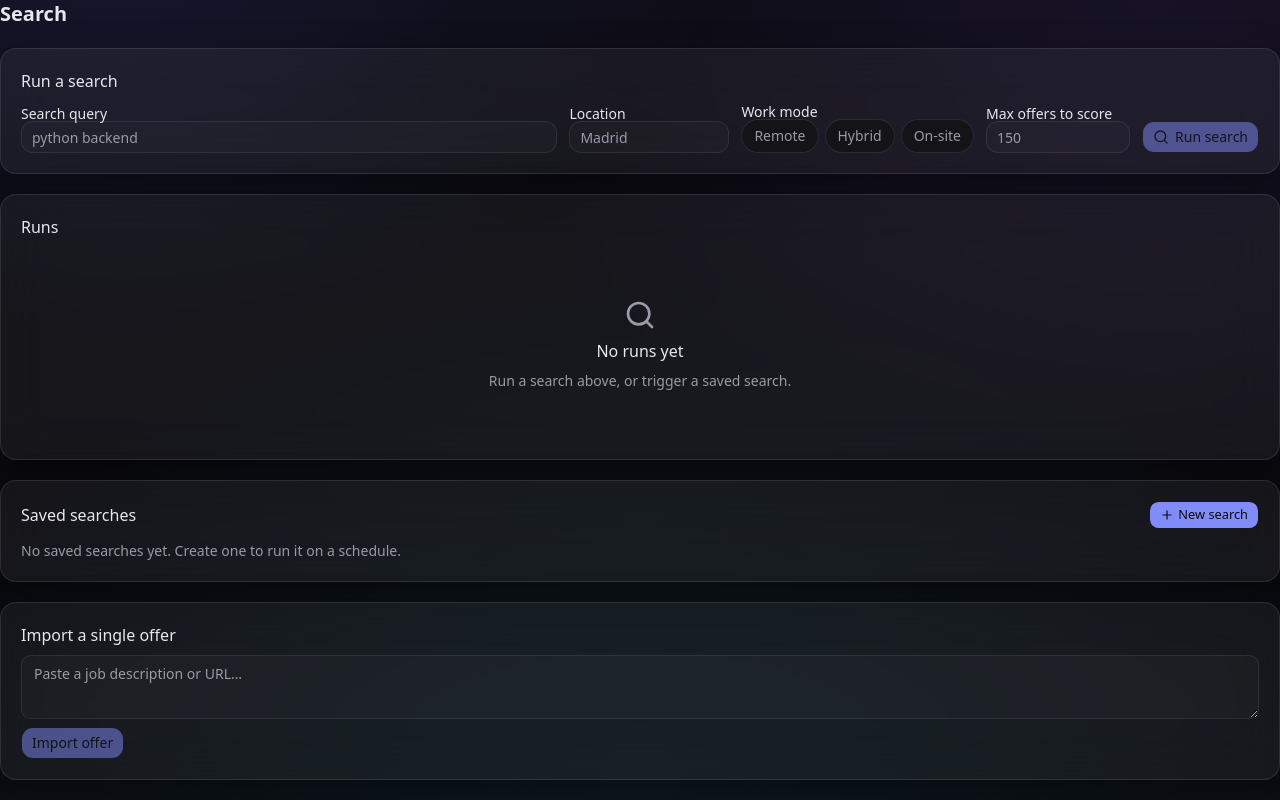
Scenario: the estimate is presented as a ceiling before launching
The width and height of the screenshot is (1280, 800).
In the field labelled "Search query": {"x": 289, "y": 137} x1=21 y1=121 x2=557 y2=153, type "python madrid"
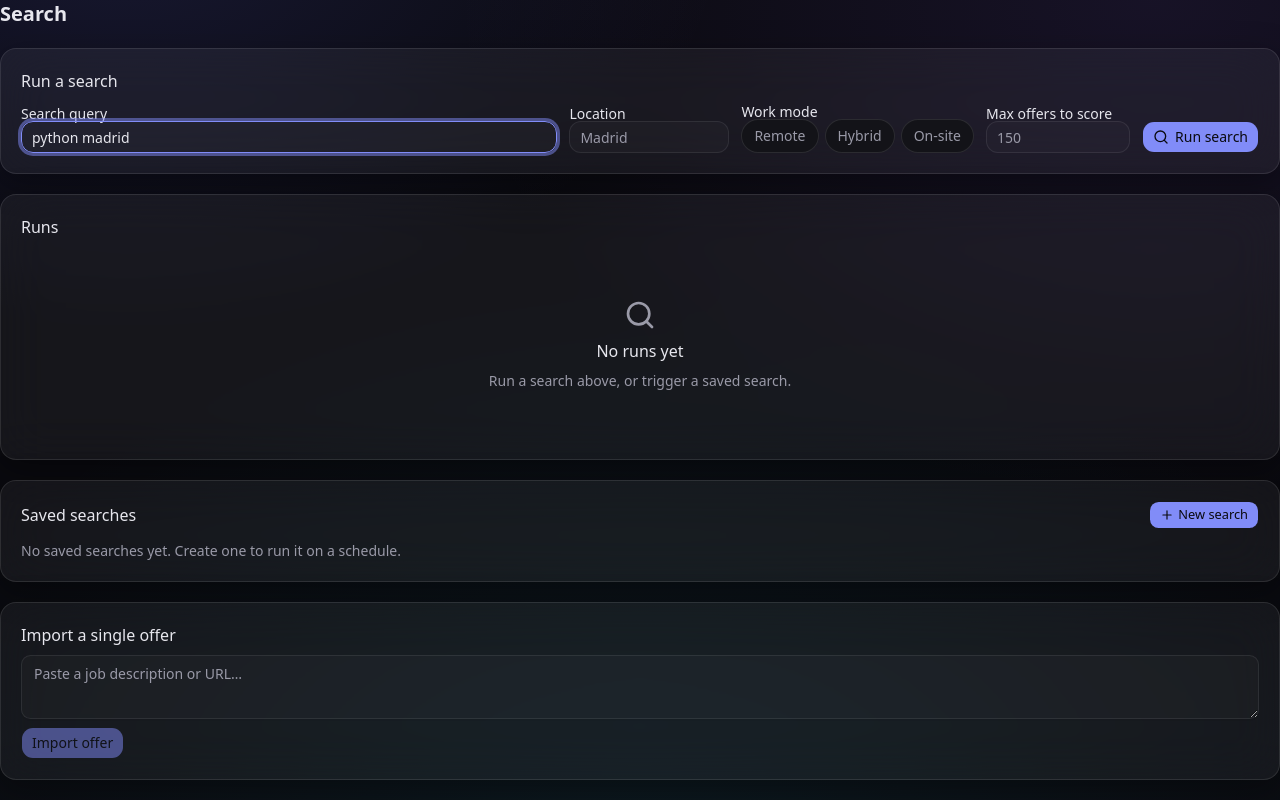
Click the button "Run search": {"x": 1200, "y": 137} x1=1142 y1=121 x2=1259 y2=153
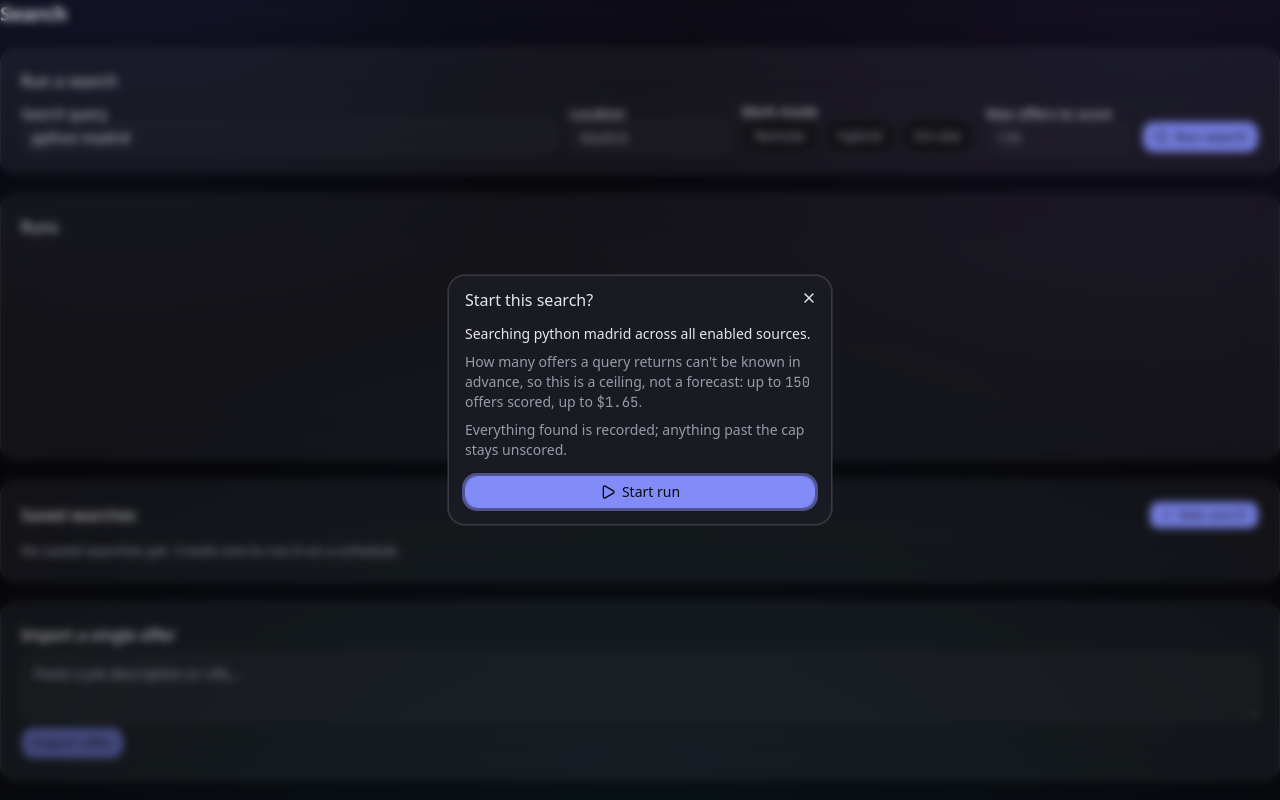
Check: the text "ceiling, not a forecast" is shown, box x1=465 y1=352 x2=801 y2=391
Check: the text "$1.65" is shown, box x1=596 y1=393 x2=638 y2=411
